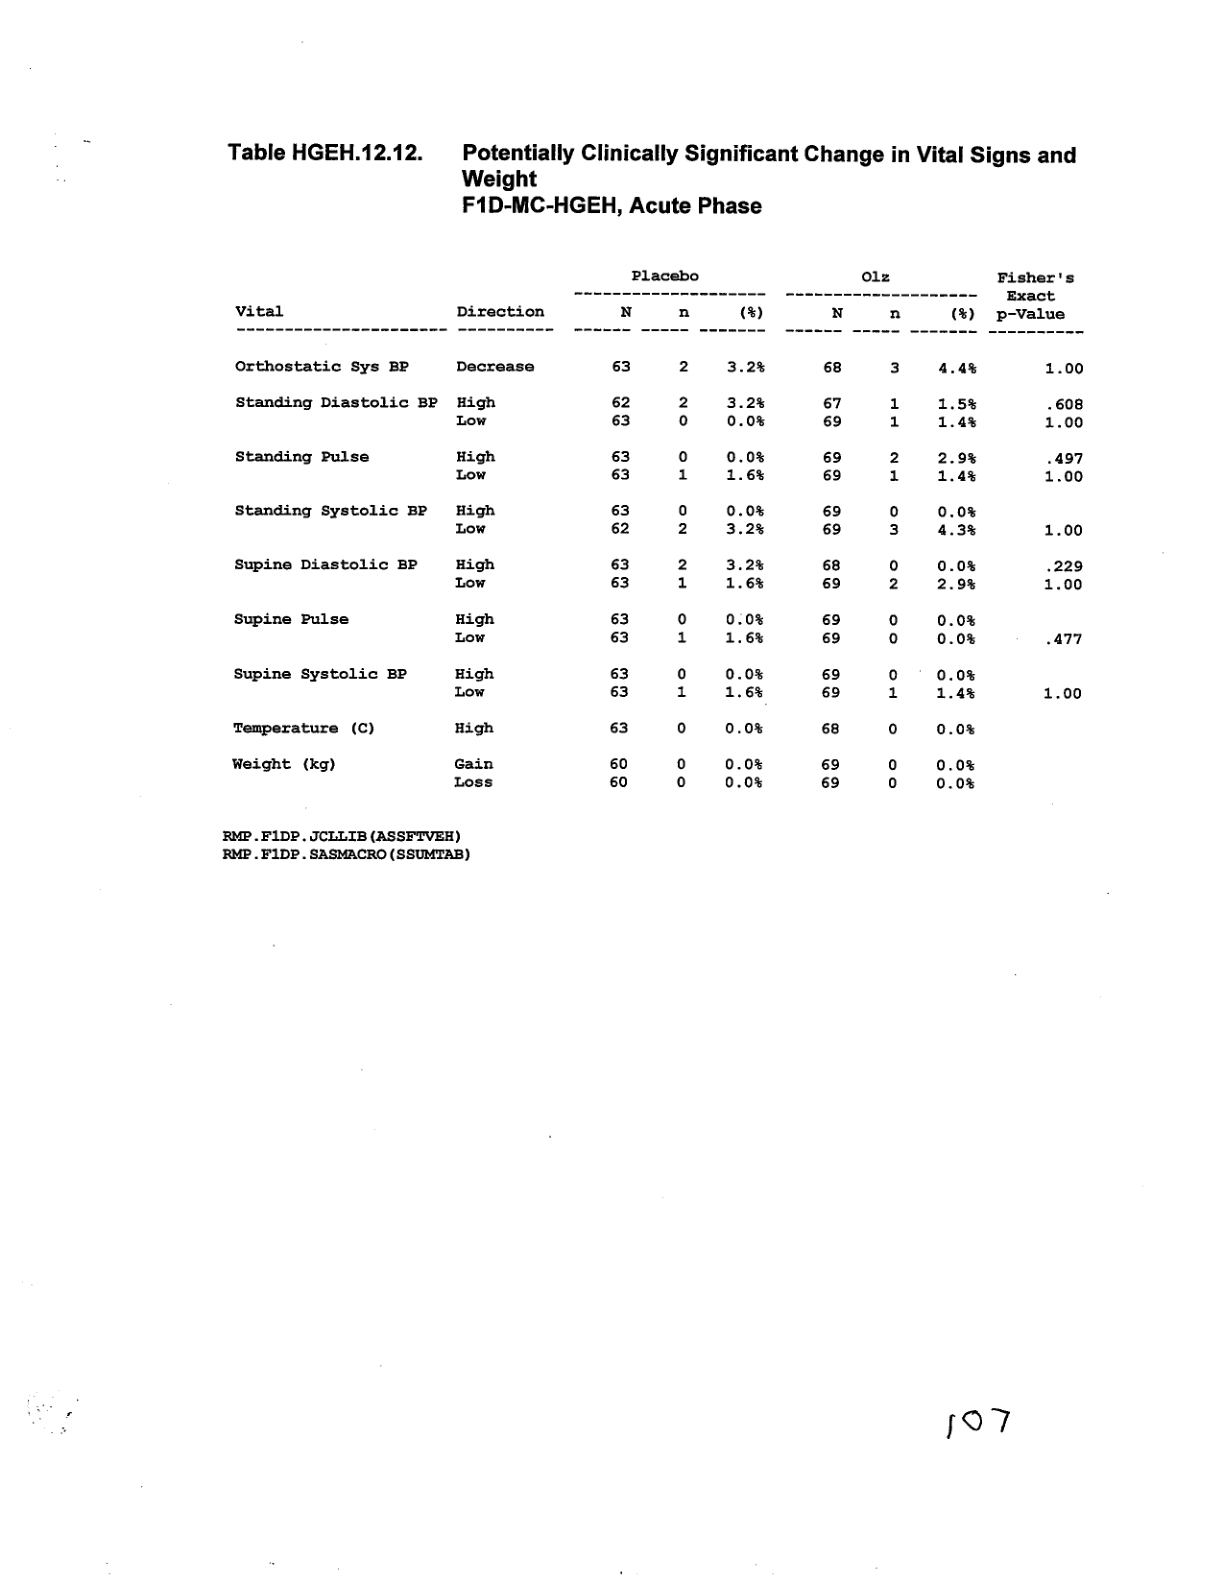nolines: (229, 262, 1090, 797)
